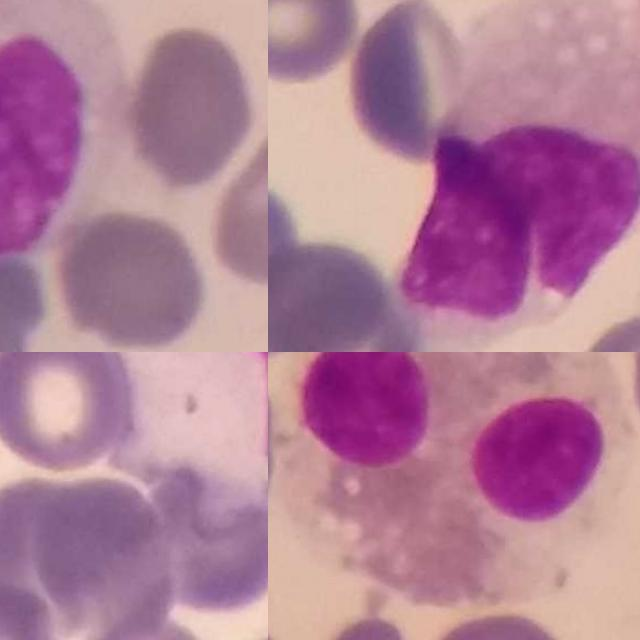Eosinophil: (294, 352, 632, 609)
Monocyte: (412, 0, 640, 352), (0, 0, 131, 280), (105, 352, 268, 504)
